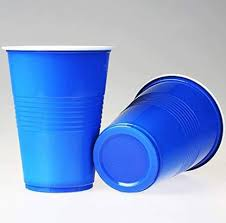plastic: (0, 45, 114, 194), (93, 72, 225, 195)
